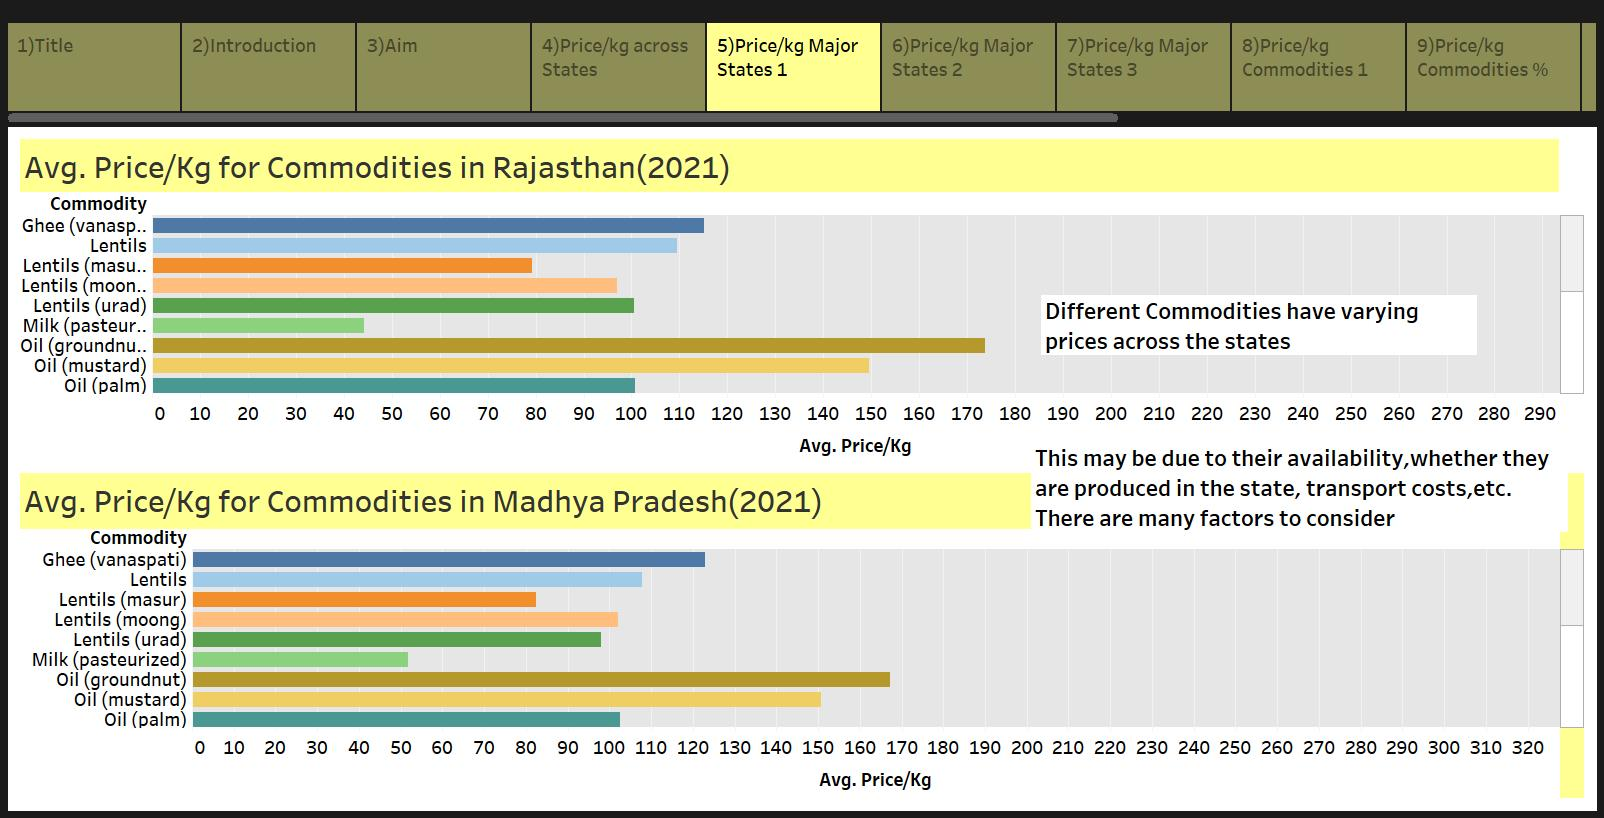

This screenshot's page, from the dashboard's own definition file:
{"tool":"tableau","page":{"name":"7)d","canvas":[1000,1000],"units":"permille","ordinal":9},"visuals":[{"type":"worksheet","title":"9)","mark":"Bar","rows":["commodity #item+name"],"cols":["date"],"box":[5,9.8,837.7,980.4]},{"type":"legend","title":"9)","param":"[federated.0j2qt5x1es7yb910xmxfb1rf4i1j].[diff:avg:Calculation_66484393958904217","box":[842.7,9.8,152.3,99]},{"type":"text","box":[402.7,141.8,423.3,119.8]}]}

Visuals, with their boxes on the dashboard's canvas, which has no fixed pixel size, in thousandths of its width and height (x1, y1, x2, y2). These are canvas units, not pixel positions in the 1604x818 screenshot, which may show the page scaled, cropped or inside an application window:
"9)" worksheet (Bar marks): crop(5, 10, 843, 990)
"9)" legend: crop(843, 10, 995, 109)
text: crop(403, 142, 826, 262)
